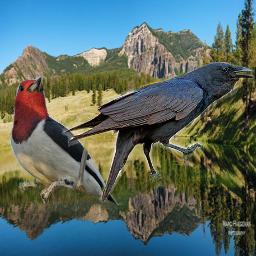Crow: (62, 62, 255, 203)
Woodpecker: (5, 69, 125, 221)
